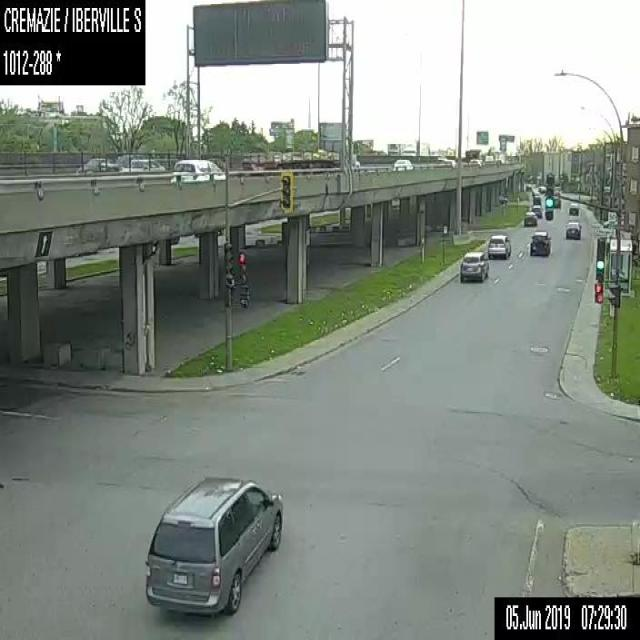vehicle: (142, 473, 282, 615), (242, 120, 360, 175), (171, 156, 225, 182), (459, 250, 489, 281), (76, 156, 121, 171), (121, 156, 165, 171), (487, 232, 510, 260), (403, 139, 429, 161), (529, 229, 551, 255), (115, 153, 148, 168), (564, 220, 581, 238), (392, 157, 413, 170), (524, 210, 537, 225), (438, 158, 456, 168), (531, 203, 543, 217), (568, 202, 578, 215), (484, 154, 496, 164), (468, 157, 481, 166), (532, 194, 541, 206), (553, 197, 560, 208), (538, 184, 546, 192), (531, 188, 538, 195), (525, 183, 531, 190), (553, 188, 559, 195)
